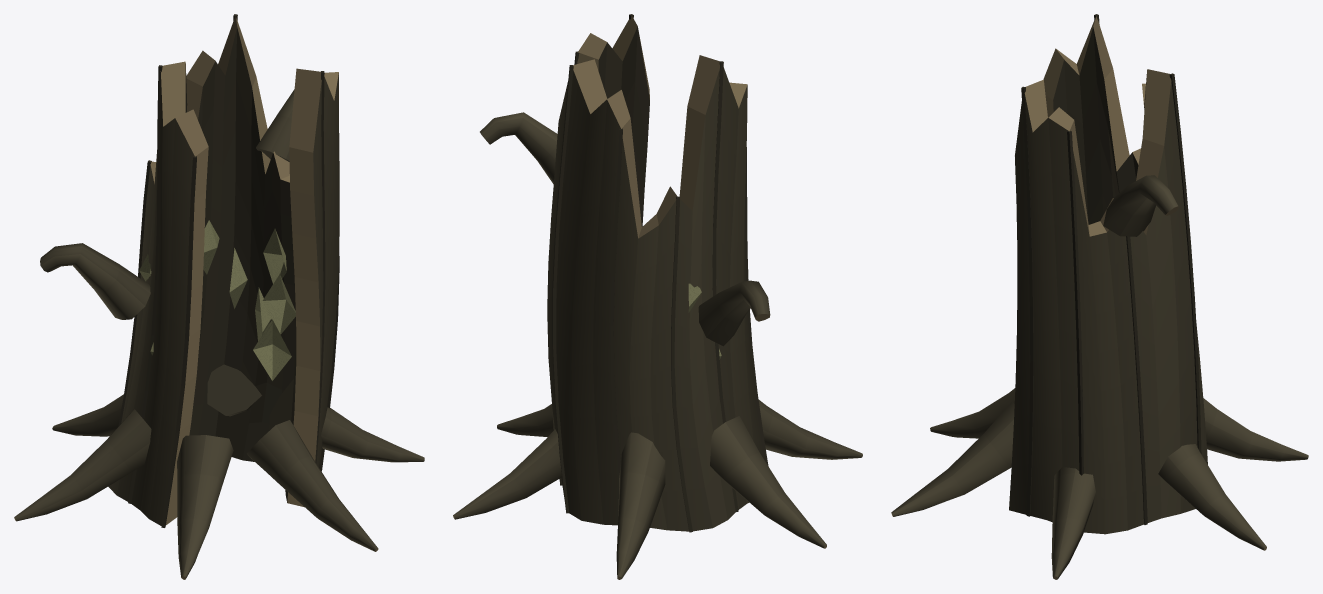
The model's file is strange_hollow_trunk.glb.
3 renders of one model, left to right at view 1: azimuth 30°, elevation 25°; view 2: azimuth 150°, elevation 25°; view 3: azimuth 270°, elevation 25°, orthographic.
Parts seen in each view (by area): view 1: strange_hollow_trunk; view 2: strange_hollow_trunk; view 3: strange_hollow_trunk.
Part boxes in pixels (<box>): strange_hollow_trunk: <box>14,14,424,579</box>; strange_hollow_trunk: <box>453,14,862,579</box>; strange_hollow_trunk: <box>891,14,1308,579</box>.
Size of the model in its own units: 4.35 by 4.96 by 4.21.
